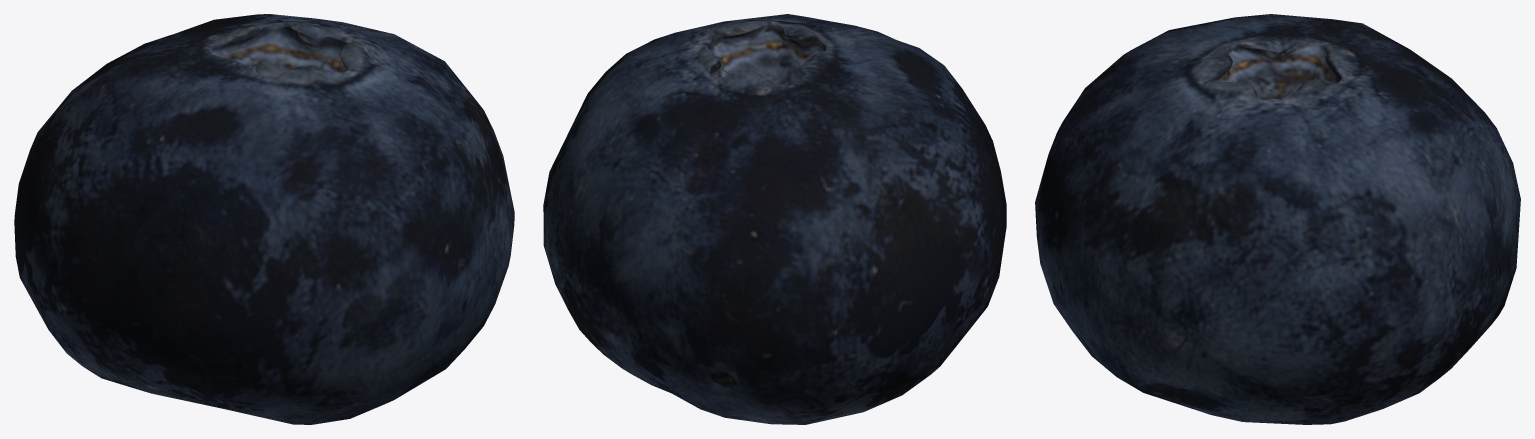
File: blueberry.fbx
3 renders of one model, left to right at view 1: azimuth 30°, elevation 25°; view 2: azimuth 150°, elevation 25°; view 3: azimuth 270°, elevation 25°, orthographic. The views are drawn at different scales.
Visible parts, largest first — view 1: fr_gourmetBlueberry; view 2: fr_gourmetBlueberry; view 3: fr_gourmetBlueberry.
Boxes of the visible parts, x1,y1,x2,y2 form: fr_gourmetBlueberry: [14, 14, 514, 424]; fr_gourmetBlueberry: [543, 14, 1006, 424]; fr_gourmetBlueberry: [1035, 14, 1520, 424].
Size of the model in its own units: 2.15 by 1.62 by 2.16.
Materials: 1 (1 with a texture image).
